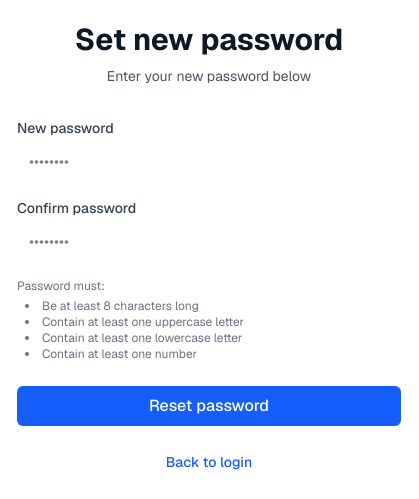
Test: ResetPasswordConfirmPage › validates password match
The width and height of the screenshot is (419, 499).
Type "ValidPass123" into the password field labelled "New password" at (209, 162), box [17,142,401,182]
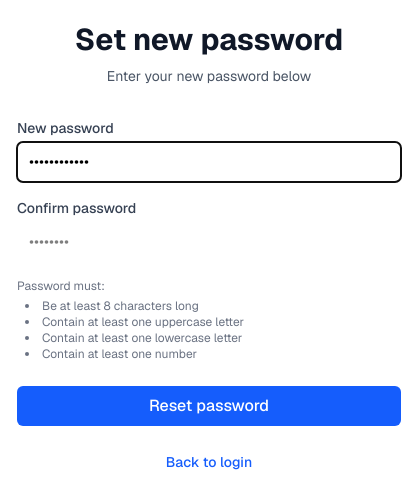
Type "DifferentPass123" into the password field labelled "Confirm password" at (209, 242), box [17,222,401,262]
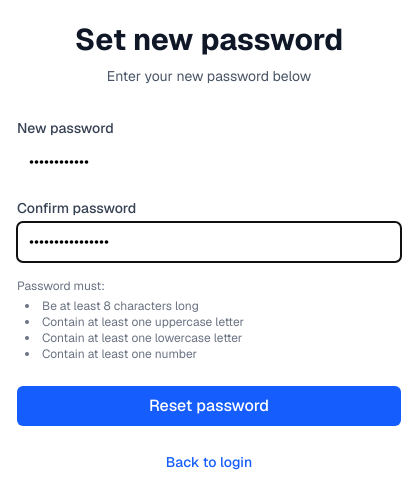
Click the button "Reset password" at (209, 406), box [17,386,401,426]
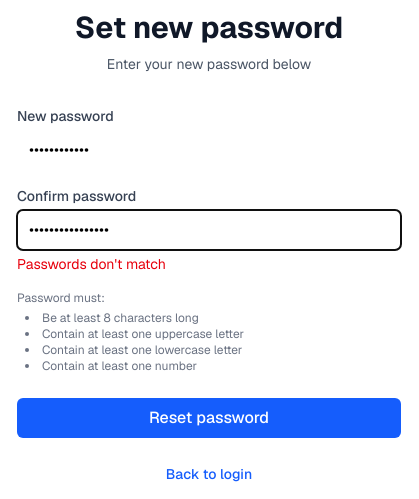
Expected: the text "Passwords don't match" is shown, [17,255,166,273]
